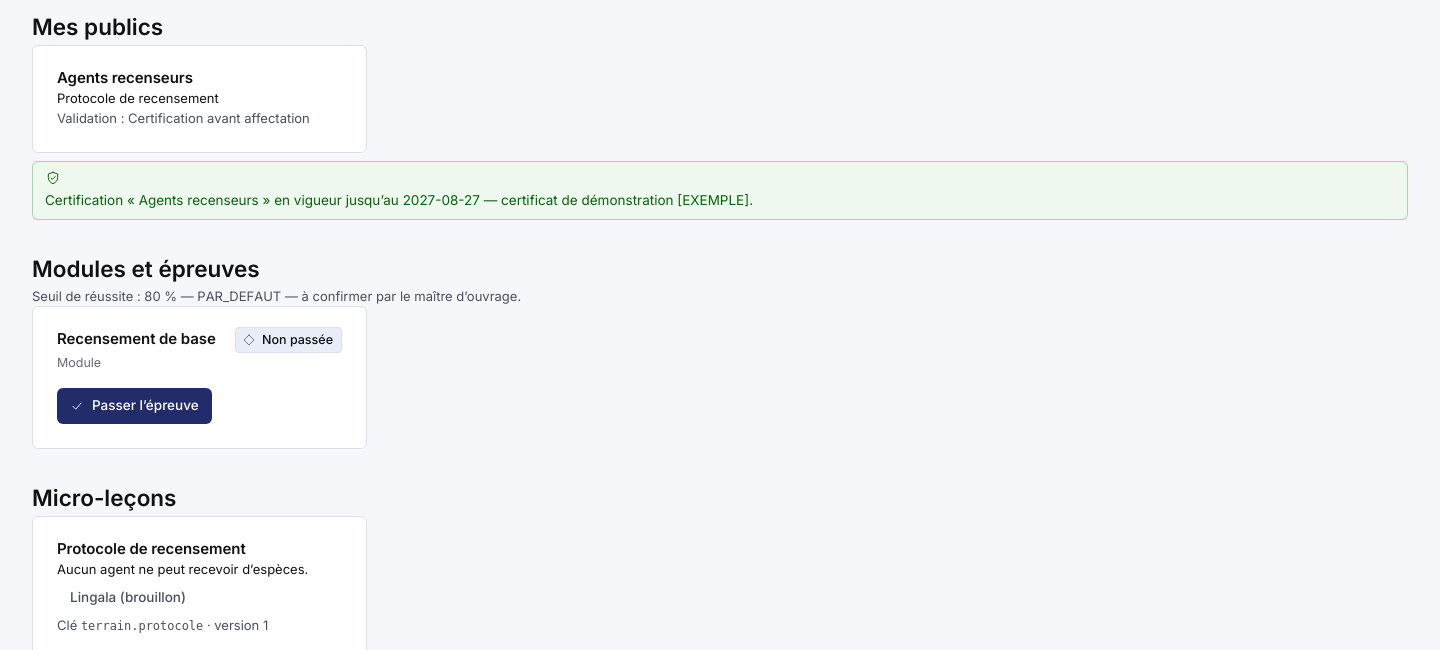
Espace d’apprentissage › modules par rôle, épreuve soumise sans bonne réponse côté client, confidentialité affichée
The width and height of the screenshot is (1440, 650).
(page scrolled)
Expected: the text "Recensement de base" is shown, [57,327,216,351]
Expected: the text "en vigueur jusqu’au 2027-08-27" is shown, [32,161,1408,220]
Click the button "Passer l’épreuve". click: (134, 406)
box: [57,388,212,424]
(page scrolled)
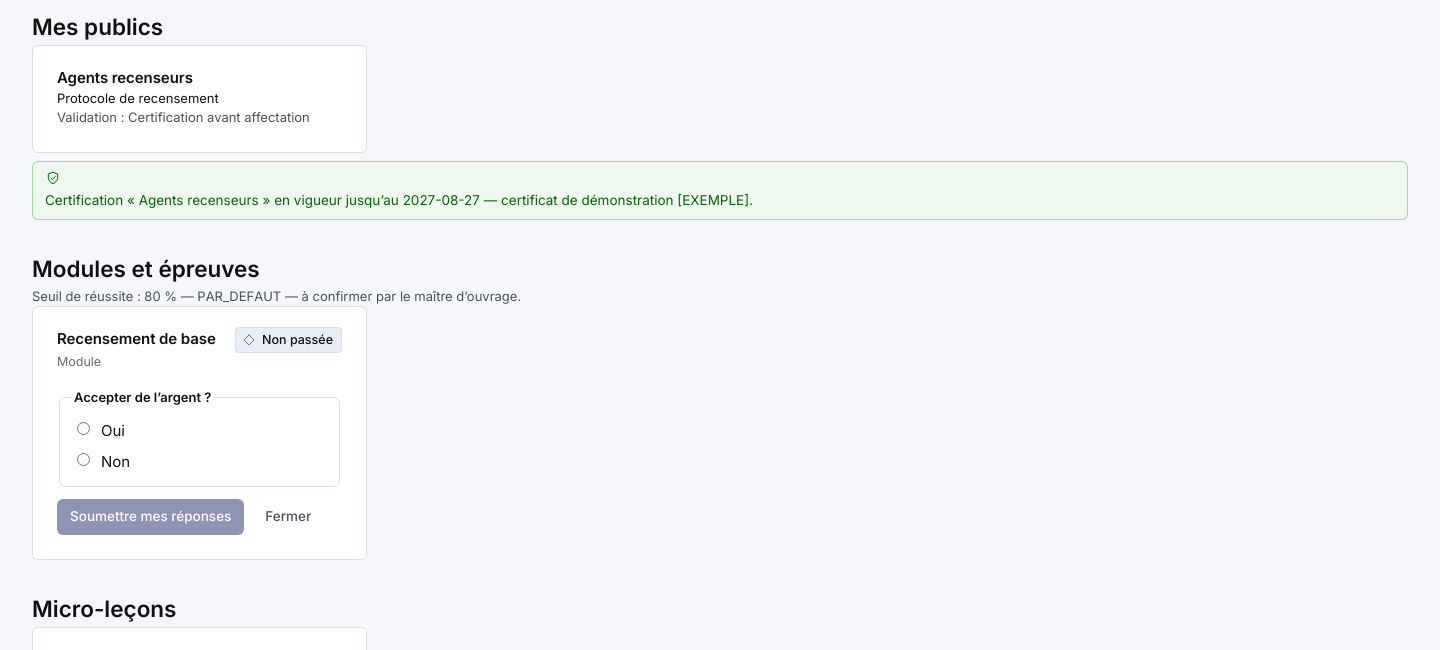
Click the radio button labelled "Non". click: (84, 460)
box: [77,453,90,466]
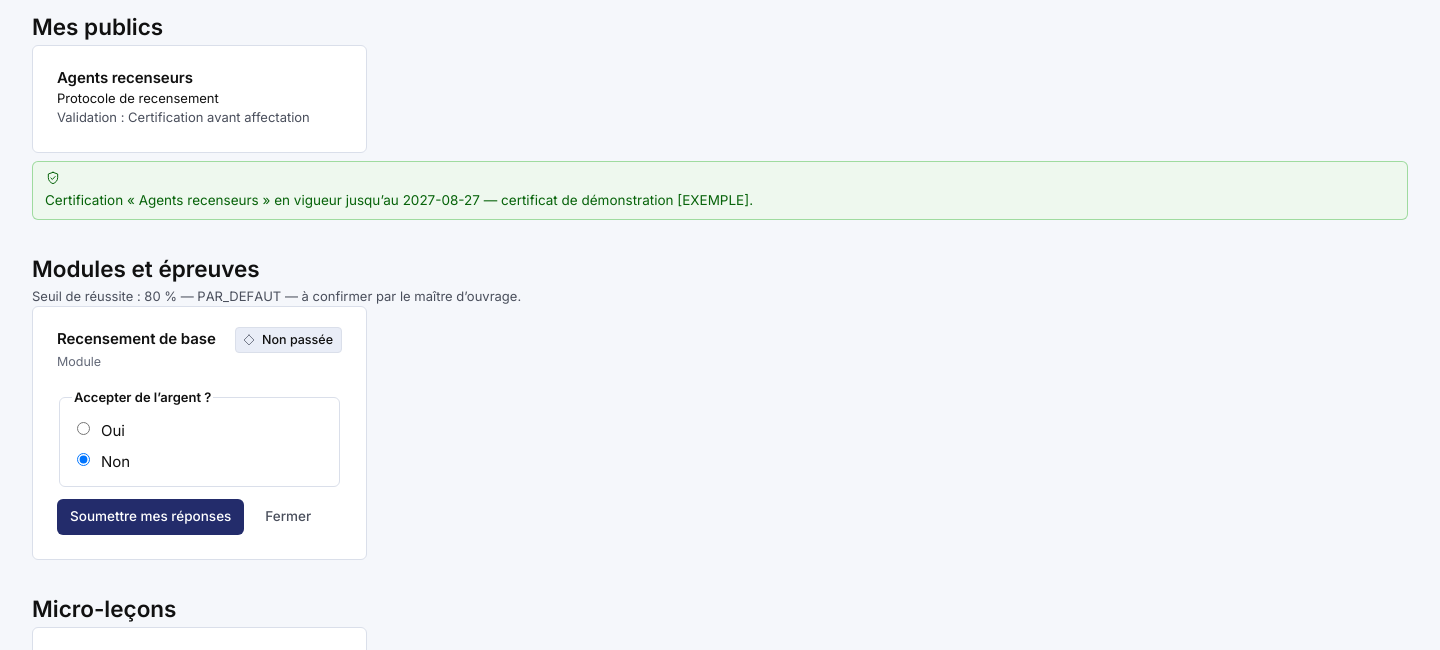
Click the button "Soumettre mes réponses". click: (151, 517)
box: [57,499,244,535]
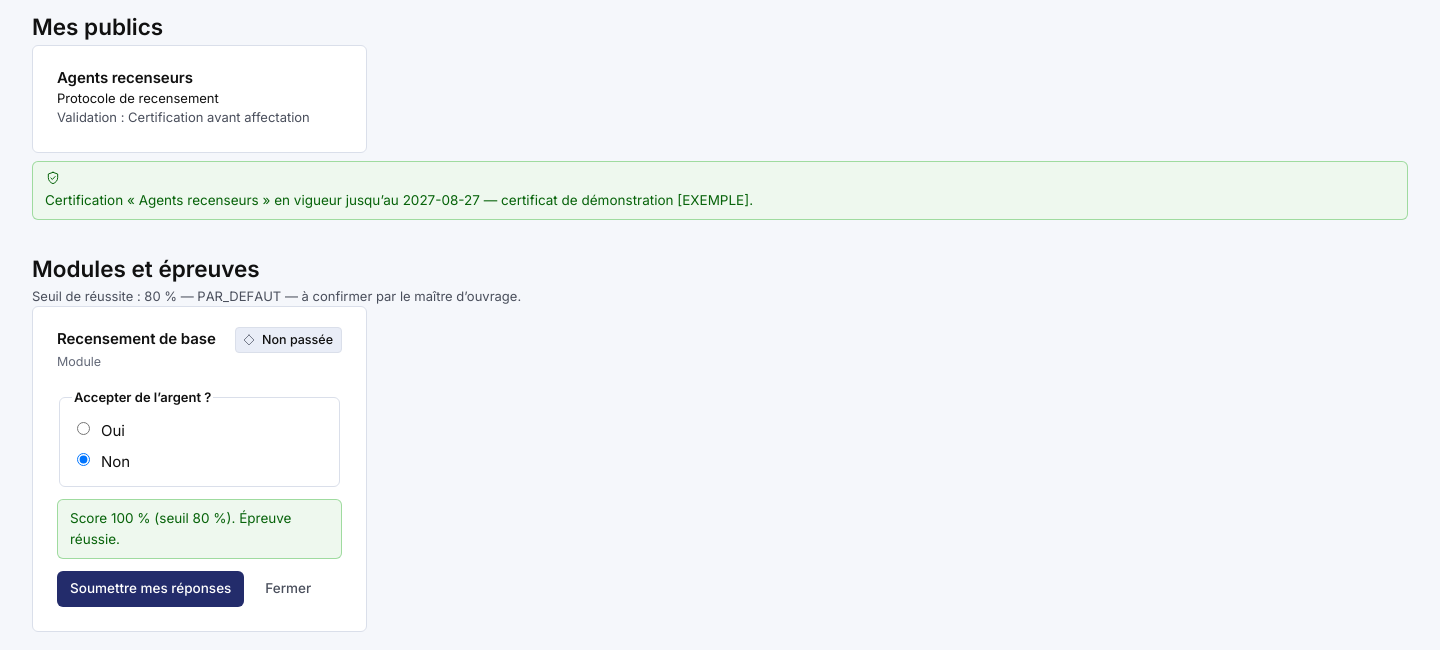
Result: the text "Score 100 % (seuil 80 %). Épreuve réussie." is shown at [57,499,342,558]
